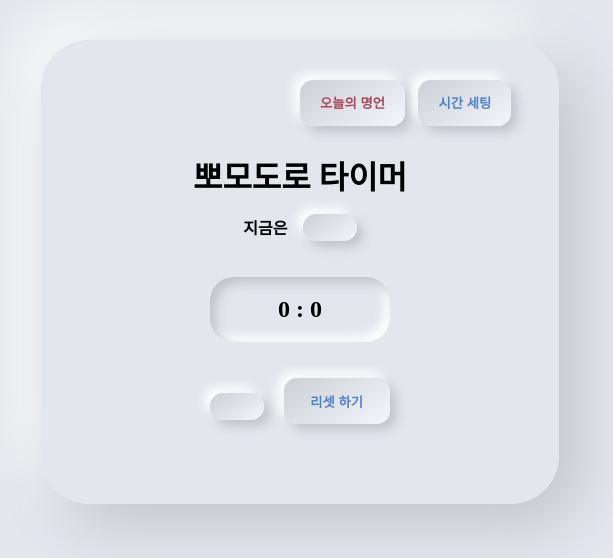
Test: App 명언 버튼이 잘 눌리나 확인하자.
Step 1. Click the button "오늘의 명언" → (353, 103), box [300,80,405,126]
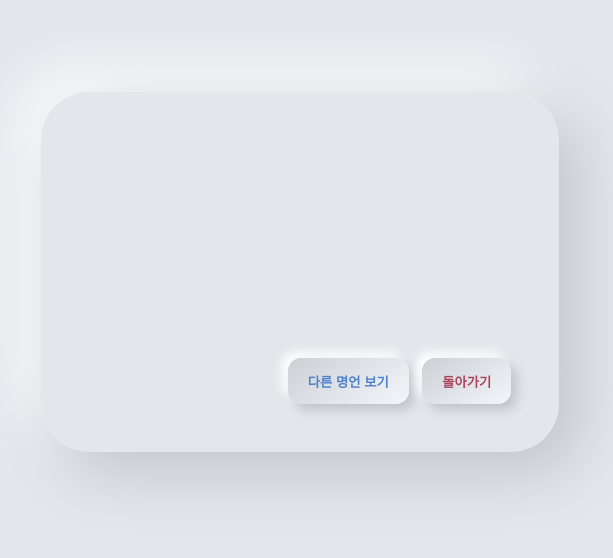
Expected: the button "다른 명언 보기" is shown, [288,358,409,404]
Expected: the button "돌아가기" is shown, [422,358,511,404]
